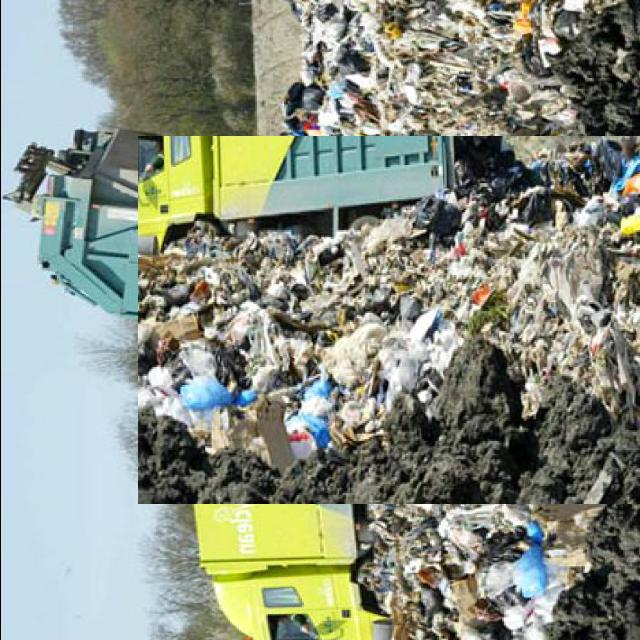garbage: (204, 68, 640, 572)
